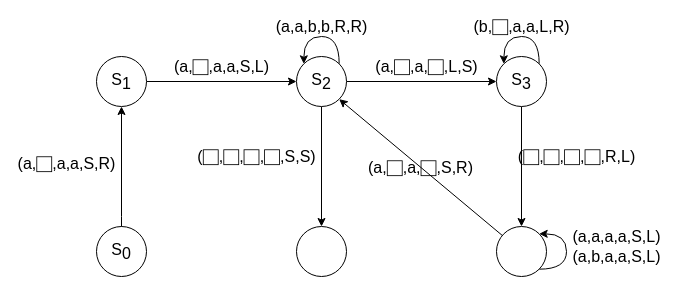
Some shapes in this 677 by 294 pixel diagram are drawn without their labels. Here are the shapes that lost their labels. From the top down, the centre of each, then its label:
At [321,251]: "S k".
At [521,251]: "S 4".
